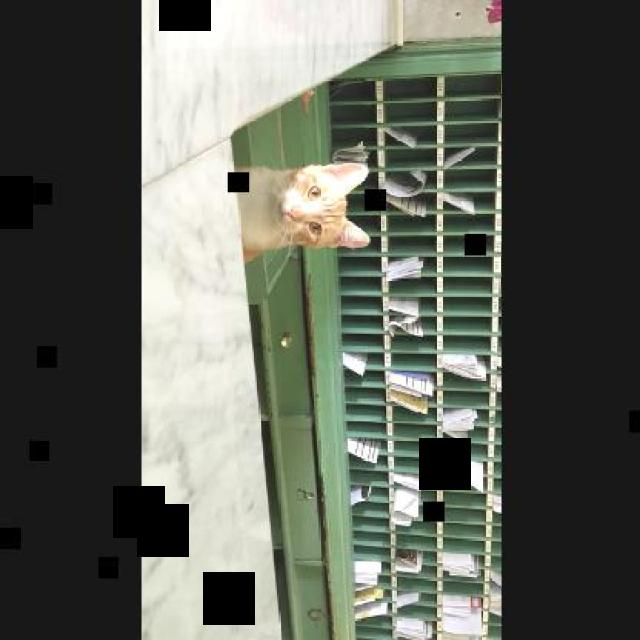unauthorized: (235, 158, 371, 262)
